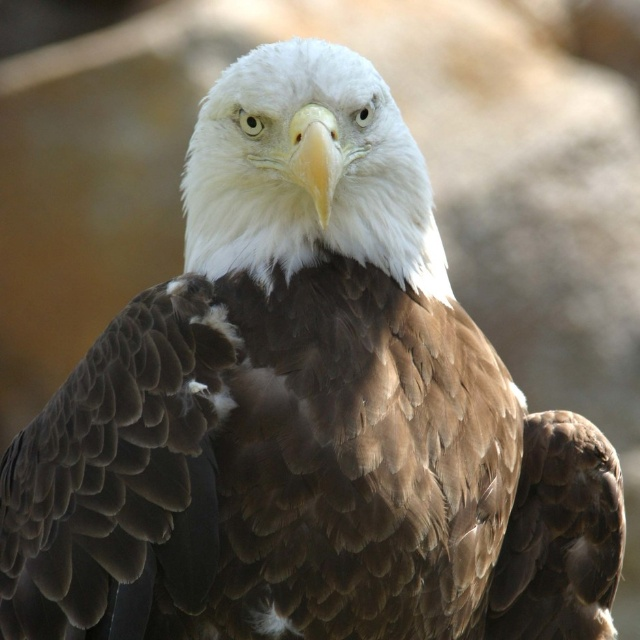Eagle: (0, 36, 622, 640)
